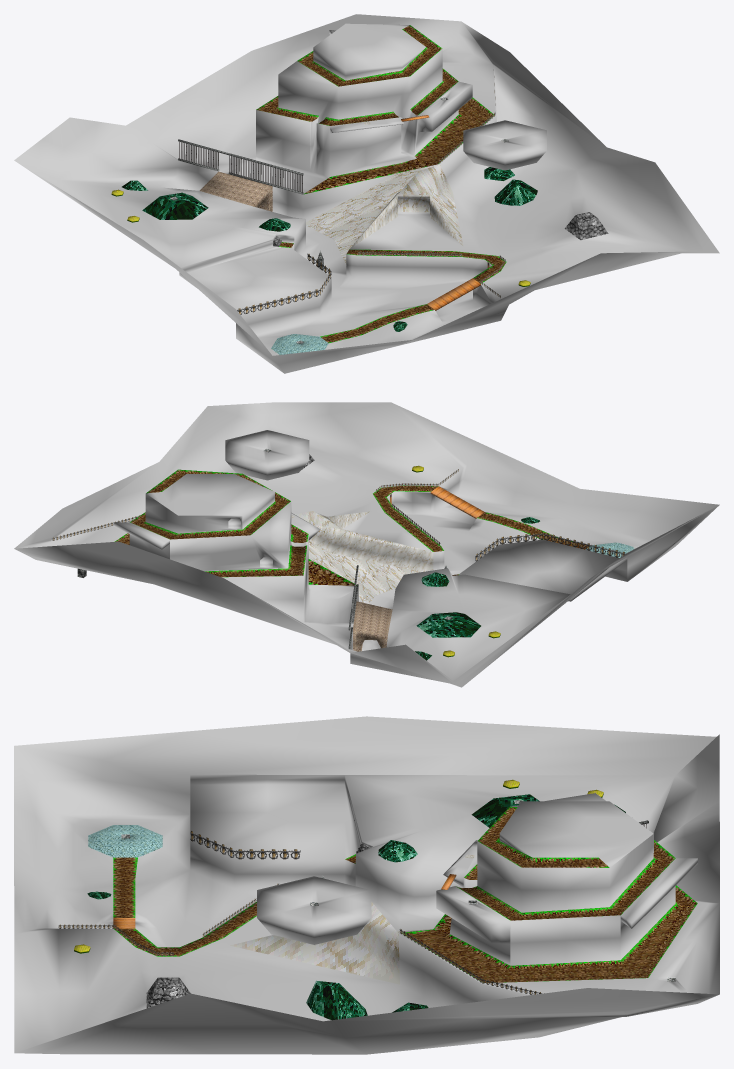
The model's file is newcastle.dae.
3 views of the same model, one above another, from view 1: azimuth 30°, elevation 25°; view 2: azimuth 150°, elevation 25°; view 3: azimuth 270°, elevation 25° (orthographic). The views are drawn at different scales.
Visible parts, largest first — view 1: bobomb_battlefeild; view 2: bobomb_battlefeild; view 3: bobomb_battlefeild.
Boxes of the visible parts, box(x1,y1,x2,y2) form: bobomb_battlefeild: box(14, 14, 719, 373); bobomb_battlefeild: box(14, 402, 719, 687); bobomb_battlefeild: box(14, 716, 719, 1054).
Bounding box in the file's own units: 618 × 618 × 176.
